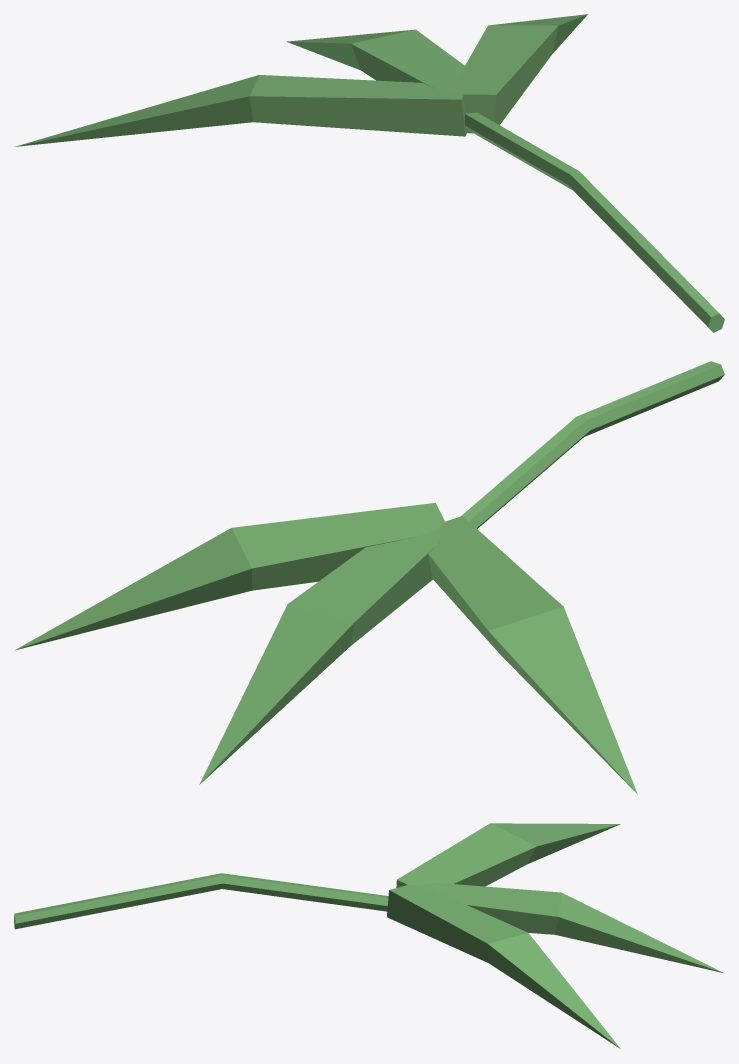
Rendered from bamboo-leaf4.FBX.
3 views of the same model, one above another, from view 1: azimuth 30°, elevation 25°; view 2: azimuth 150°, elevation 25°; view 3: azimuth 270°, elevation 25° (orthographic). The views are drawn at different scales.
Parts seen in each view (by area): view 1: bamboo-leaf4; view 2: bamboo-leaf4; view 3: bamboo-leaf4.
Part boxes in pixels (bbox=[...]): bamboo-leaf4: bbox=[15, 14, 724, 332]; bamboo-leaf4: bbox=[15, 361, 724, 794]; bamboo-leaf4: bbox=[14, 823, 723, 1048].
Bounding box in the file's own units: 35.06 × 6.51 × 47.92.
